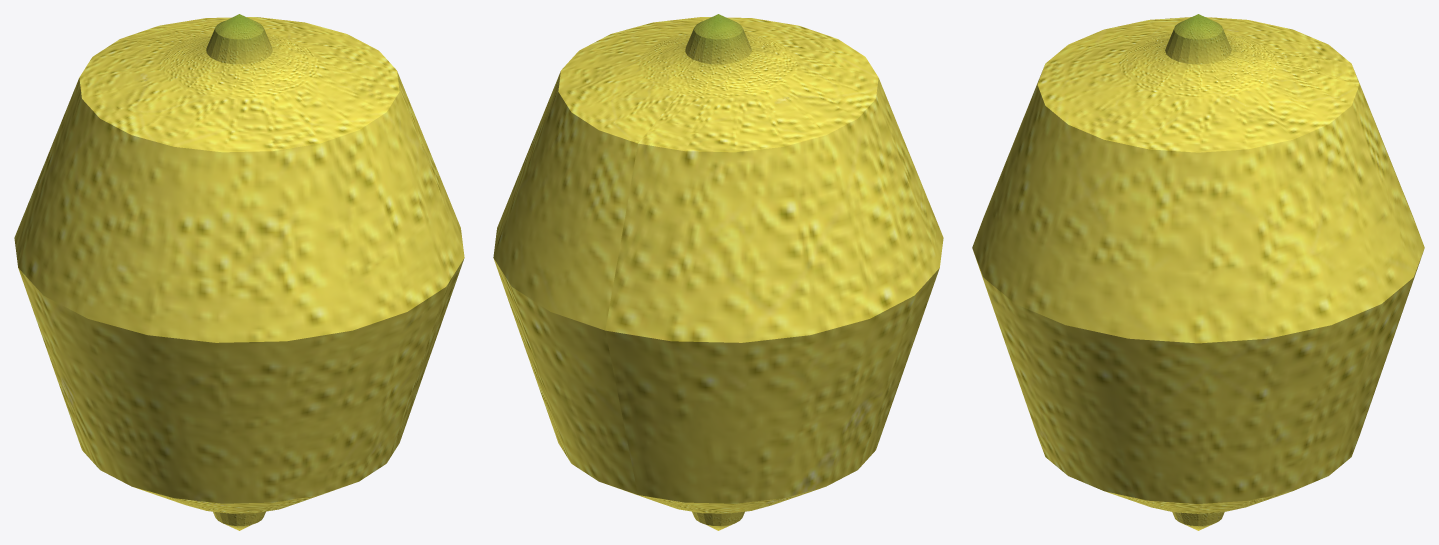
Rendered from lemon.fbx.
The picture shows the model from 3 angles, left to right: view 1: azimuth 30°, elevation 25°; view 2: azimuth 150°, elevation 25°; view 3: azimuth 270°, elevation 25°; orthographic projection.
Parts seen in each view (by area): view 1: pCylinder6; view 2: pCylinder6; view 3: pCylinder6.
Part boxes in pixels (x1,y1,x2,y2): pCylinder6: (14, 14, 464, 530); pCylinder6: (493, 14, 943, 530); pCylinder6: (972, 14, 1424, 530).
Size of the model in its own units: 1.58 by 2 by 1.58.
